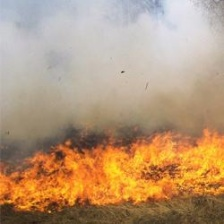fire: (1, 130, 224, 206)
smoke: (1, 4, 209, 120)
